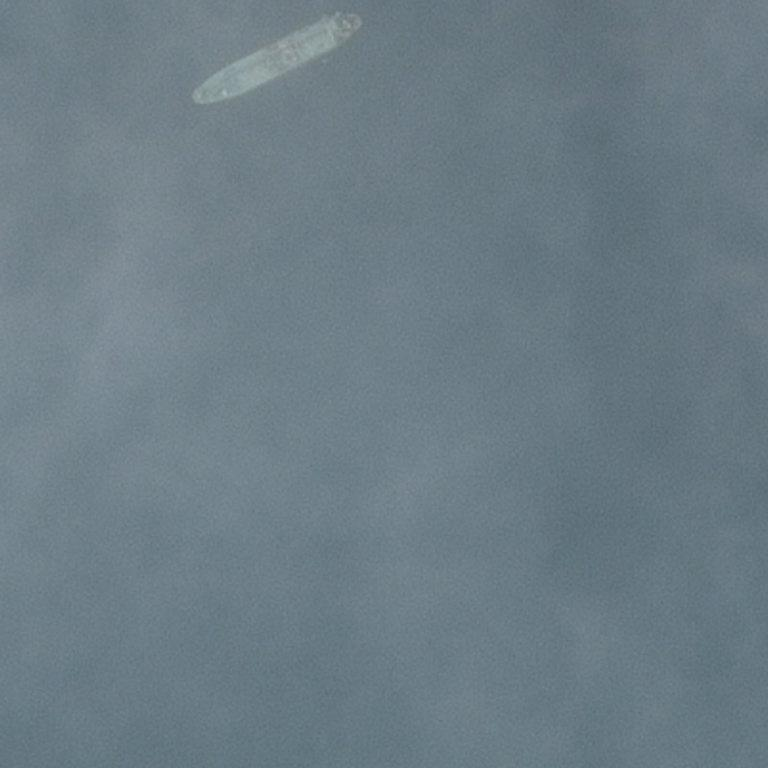ship: (186, 46, 367, 72), (191, 94, 197, 102), (347, 12, 355, 18), (359, 0, 363, 3)
